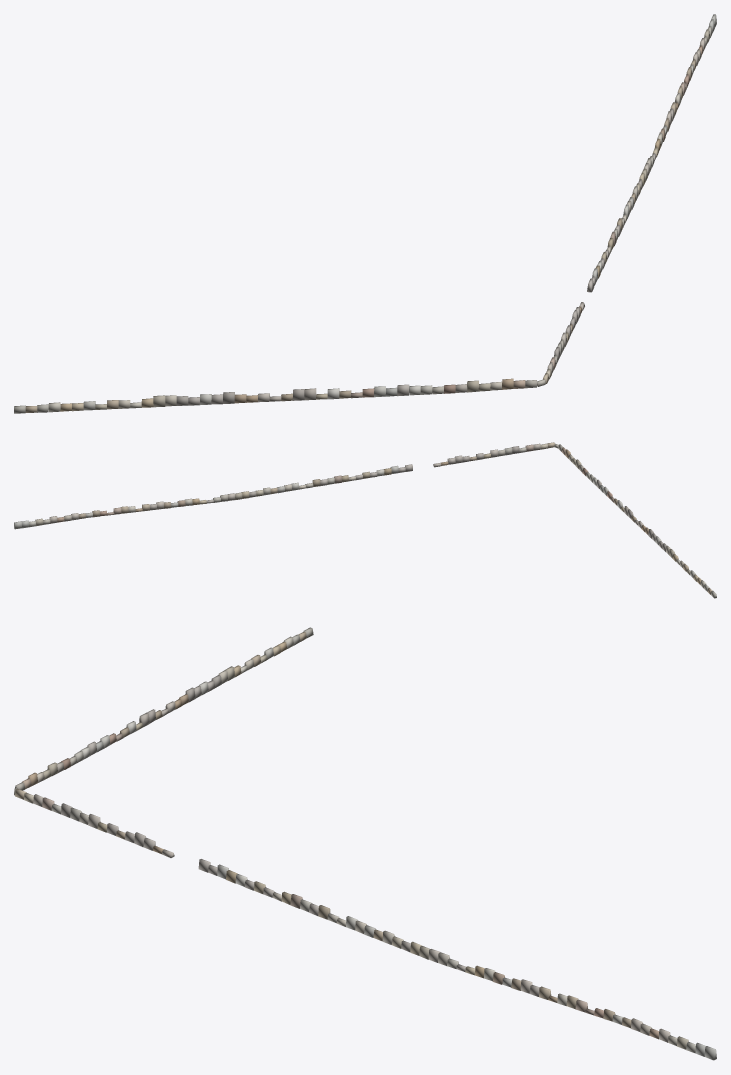
File: farm_-17_-25_far.glb
The picture shows the model from 3 angles, top to bottom: view 1: azimuth 30°, elevation 25°; view 2: azimuth 150°, elevation 25°; view 3: azimuth 270°, elevation 25°; orthographic projection. The views are drawn at different scales.
Parts seen in each view (by area): view 1: geometry_0; view 2: geometry_0; view 3: geometry_0.
Boxes of the visible parts, x1=… form: geometry_0: x1=14, y1=14, x2=716, y2=413; geometry_0: x1=14, y1=442, x2=716, y2=598; geometry_0: x1=14, y1=627, x2=716, y2=1060.
Size of the model in its own units: 142 by 6.85 by 92.14.
